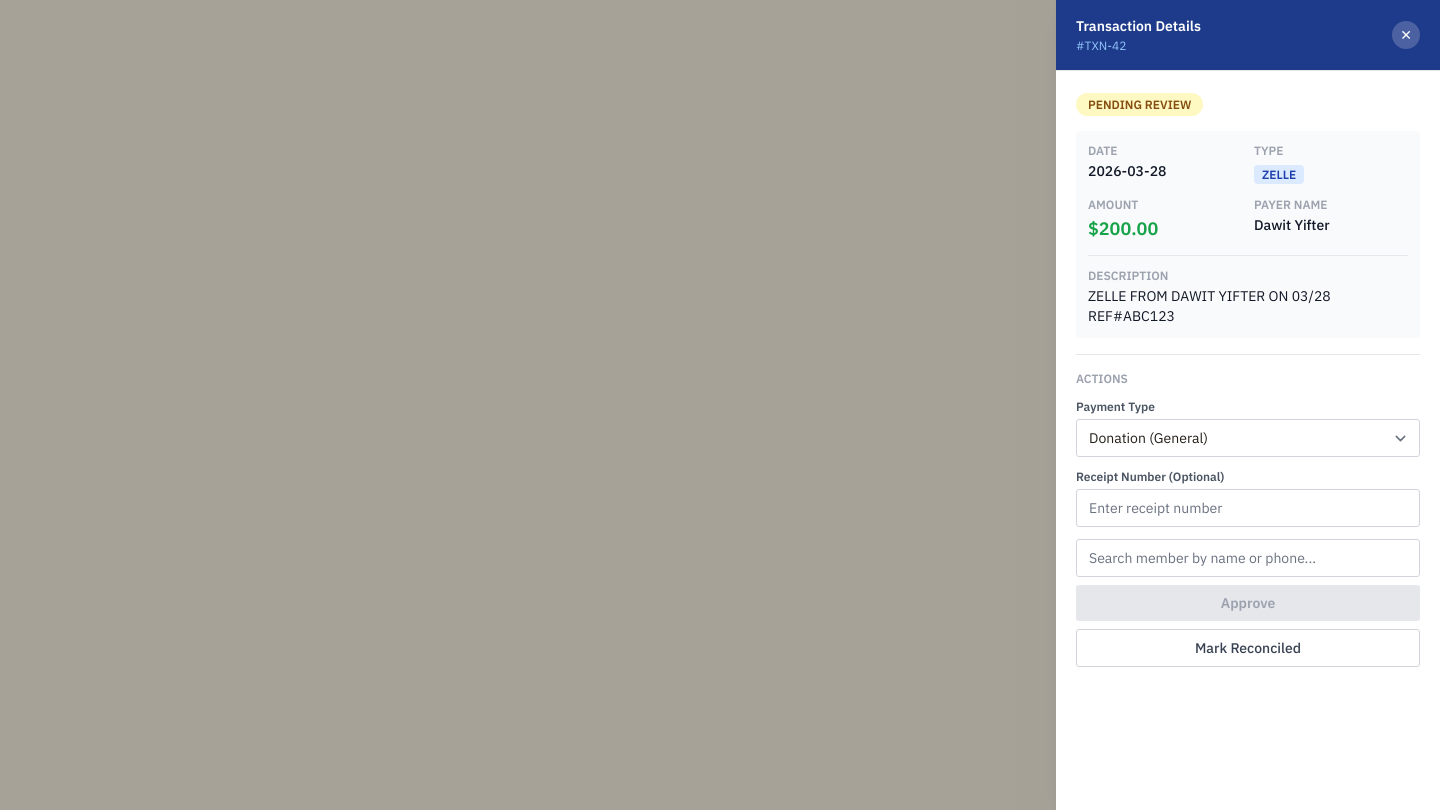
Test: BankTransactionDetail — PENDING income actions › year selector appears when membership_due is selected
The image size is (1440, 810).
Select "Membership Due (ወርሃዊ ክፍያ)" in the dropdown labelled "Payment Type" at (1248, 438), box [1076,419,1420,457]
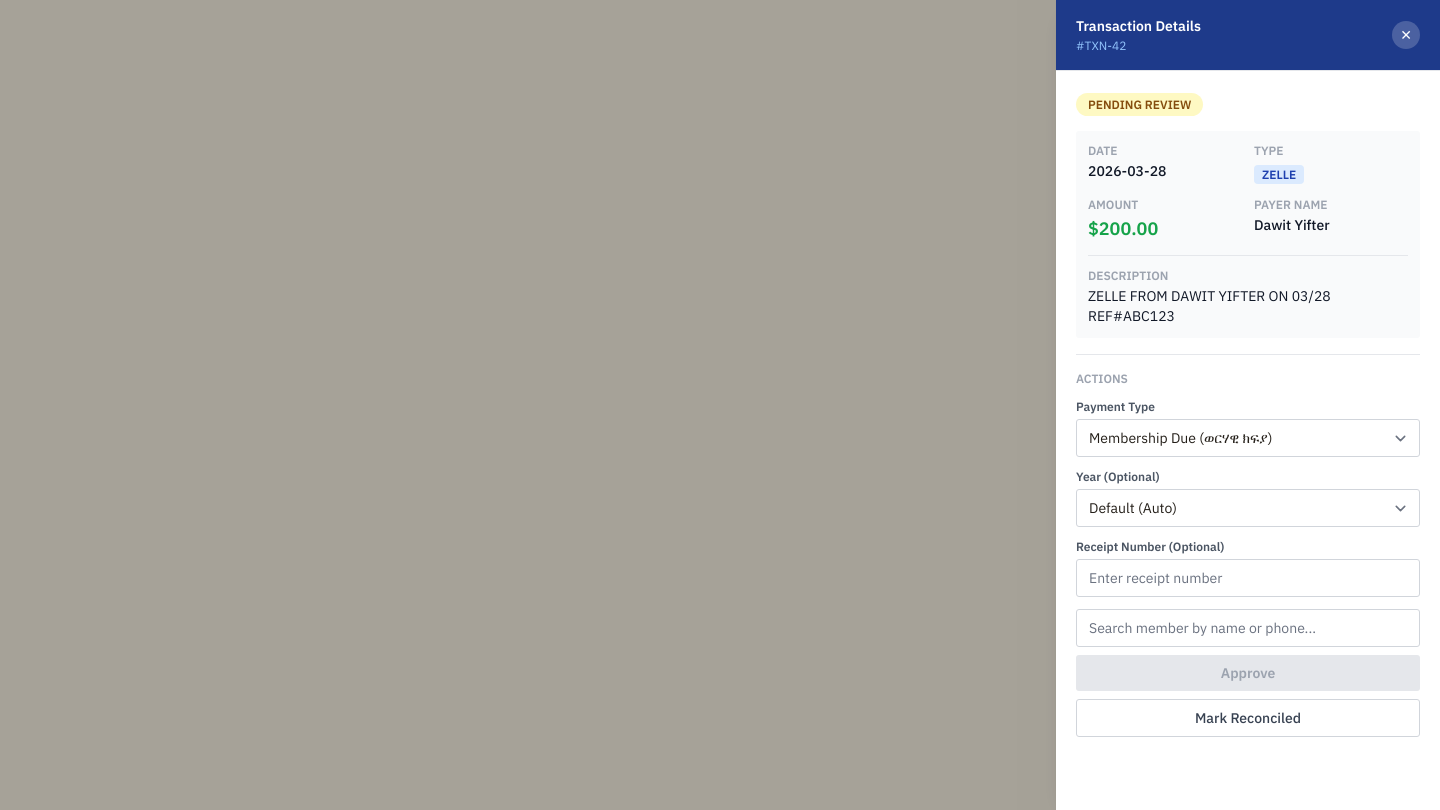
Expected: the dropdown labelled "Year (Optional)" is shown, [1076,489,1420,527]
